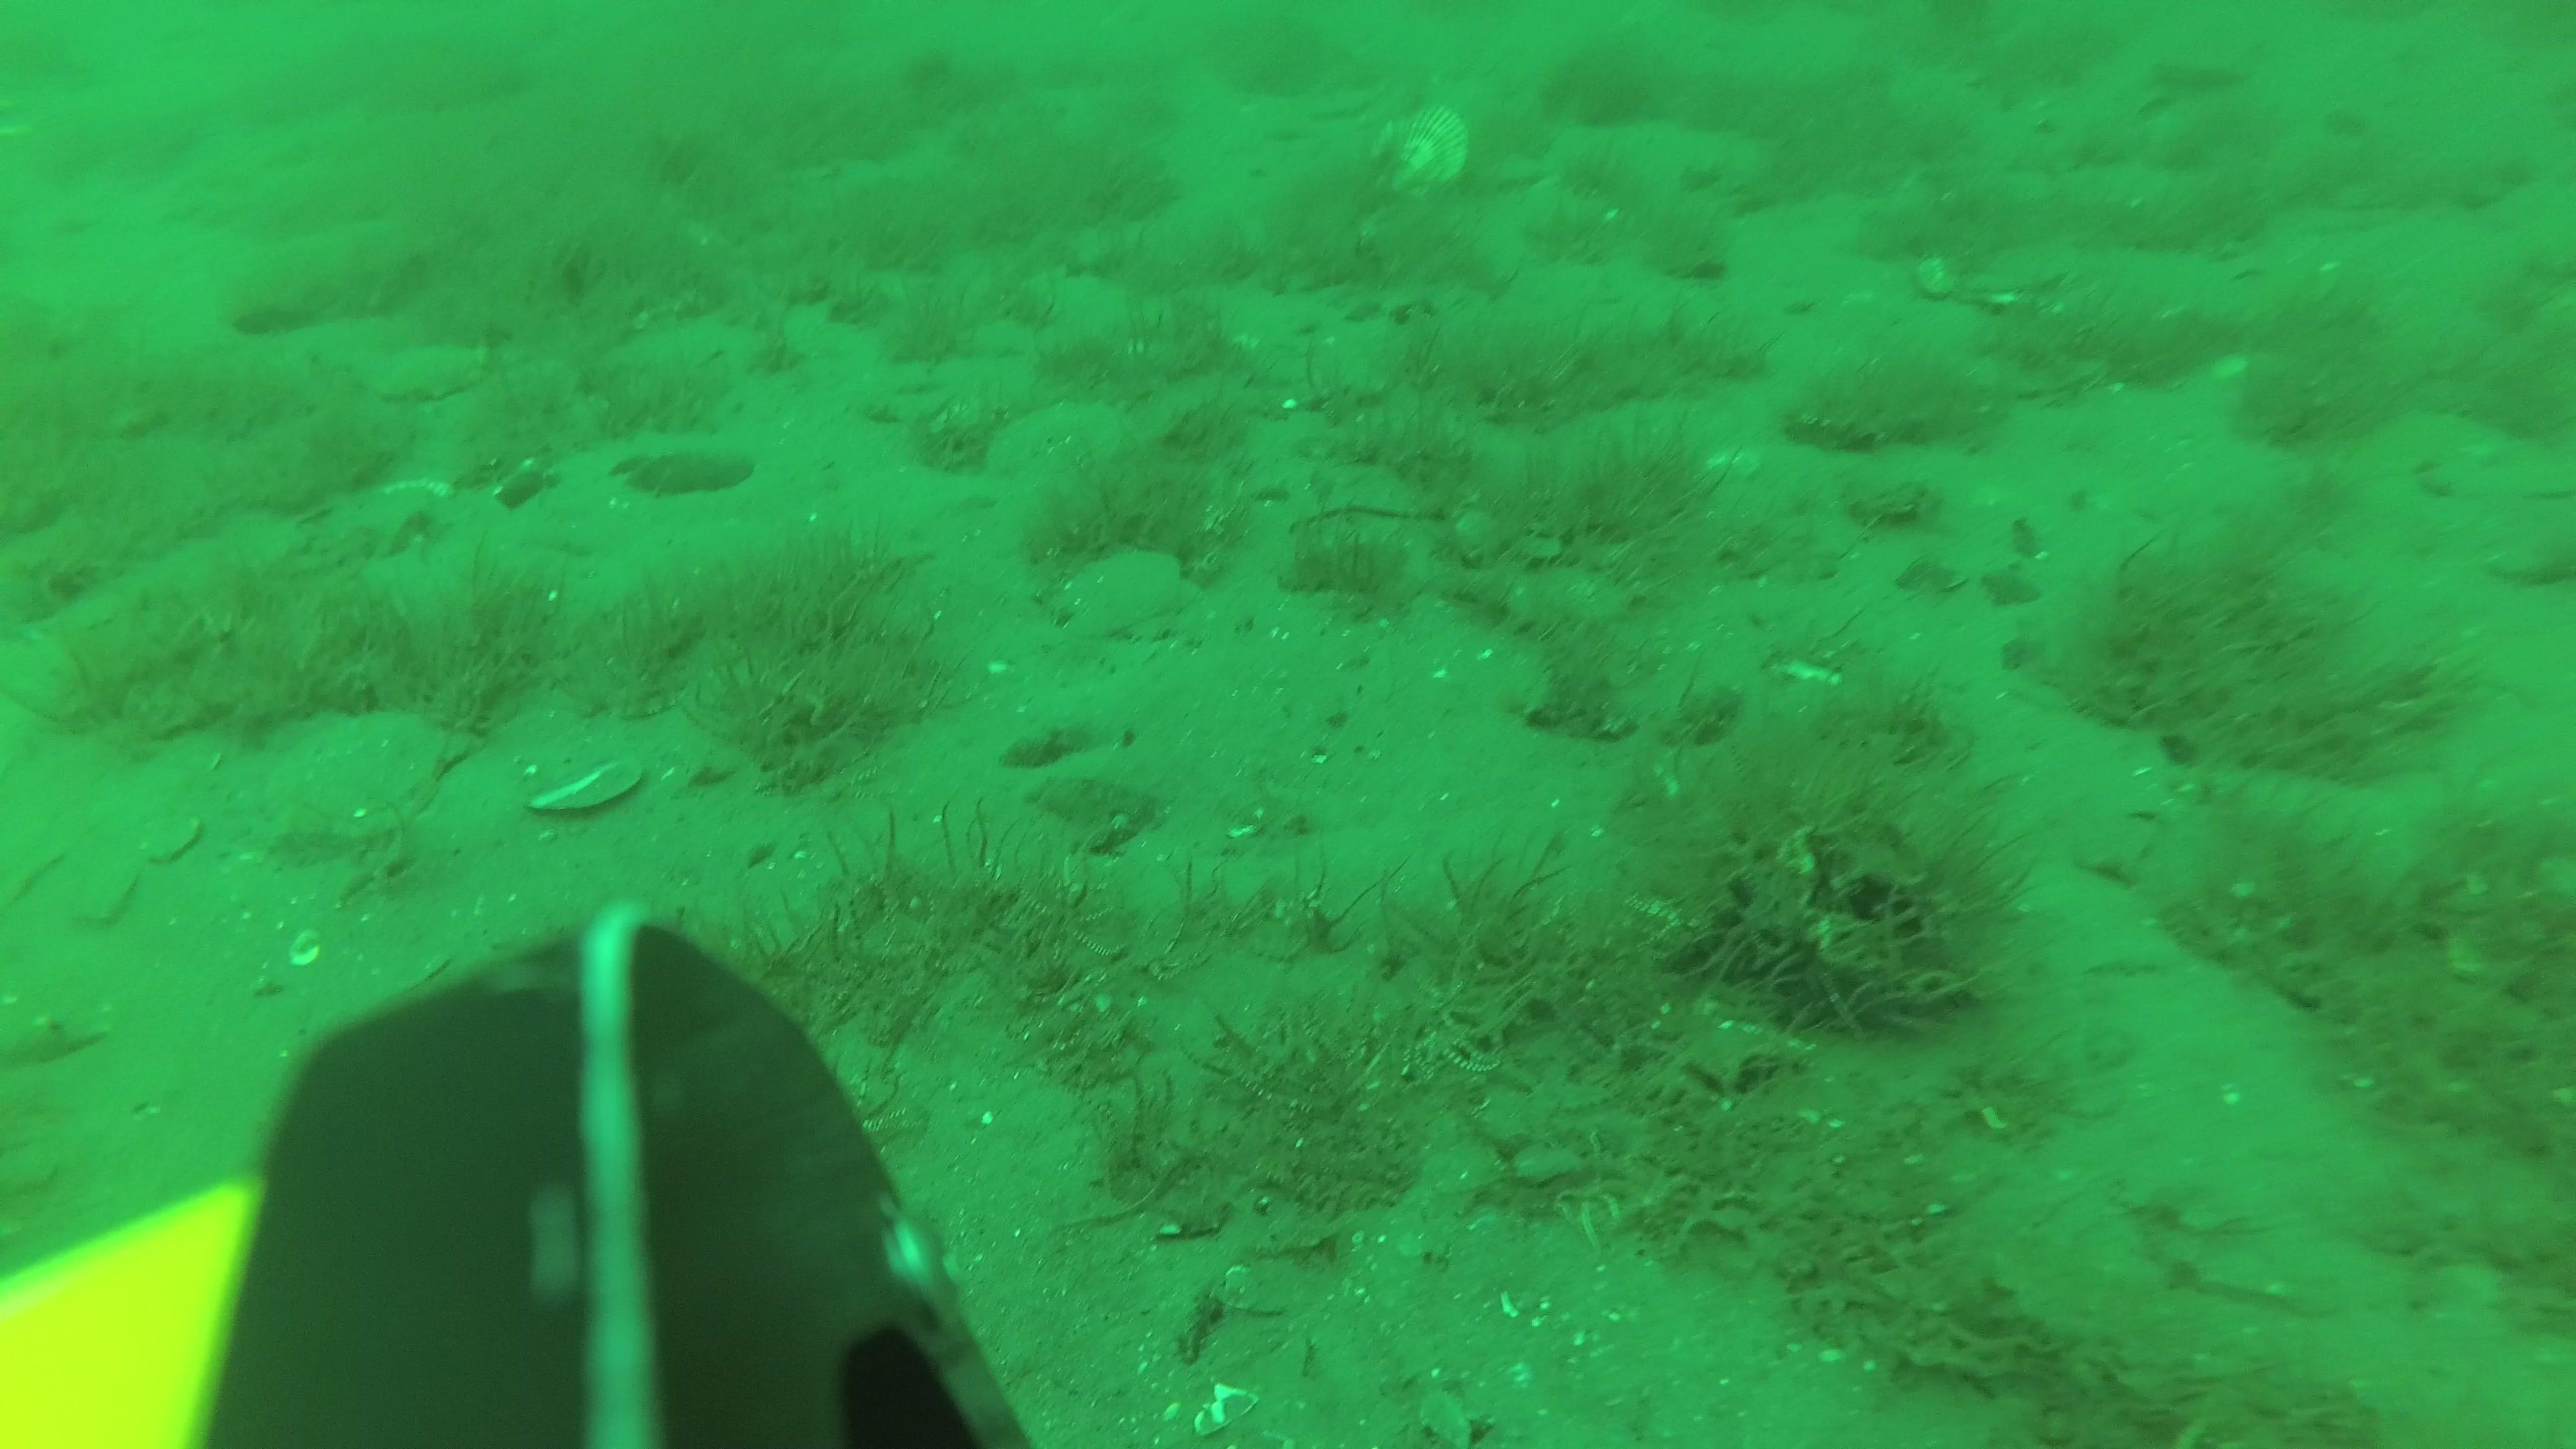scallop: (269, 718, 476, 835), (1053, 547, 1201, 635), (1918, 235, 2081, 308), (1364, 106, 1467, 200), (364, 341, 488, 402)
